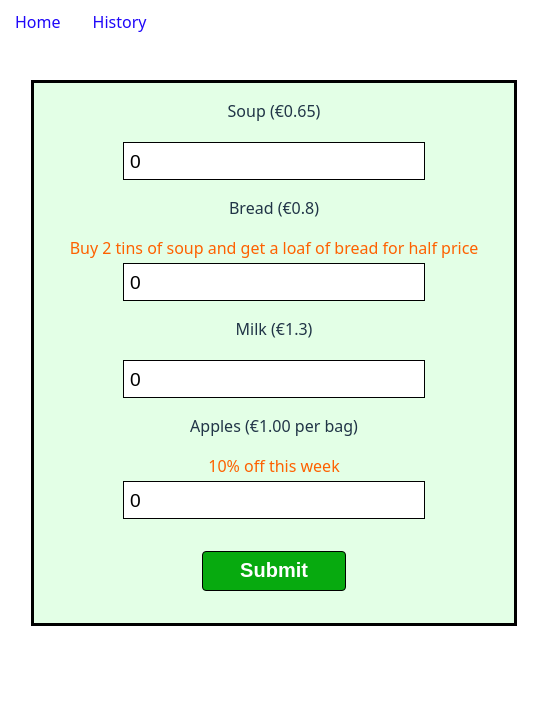
Test case: Basket form and GeneratedReceipt integration › shows validation errors for negative quantities and required fields
Replace the text in the number field with id "soup-quantity" with "-1" at (275, 161), box top-left (123, 142), bottom-right (426, 180)
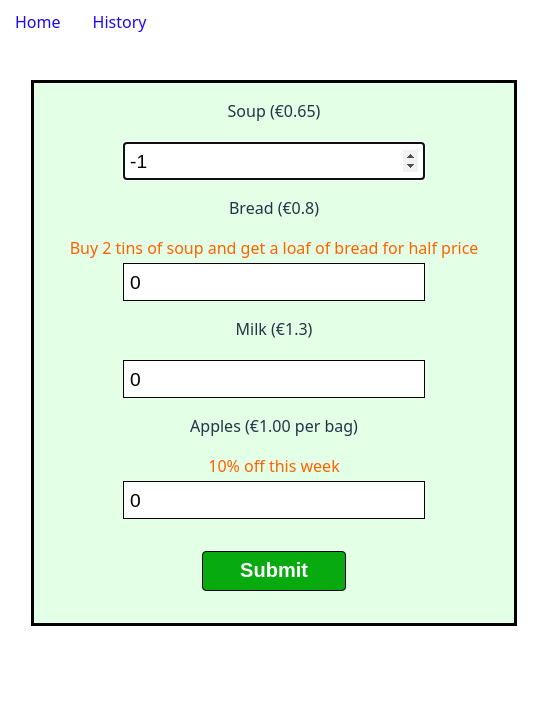
Replace the text in the number field with id "bread-quantity" with "-2" at (275, 282), box top-left (123, 263), bottom-right (426, 301)
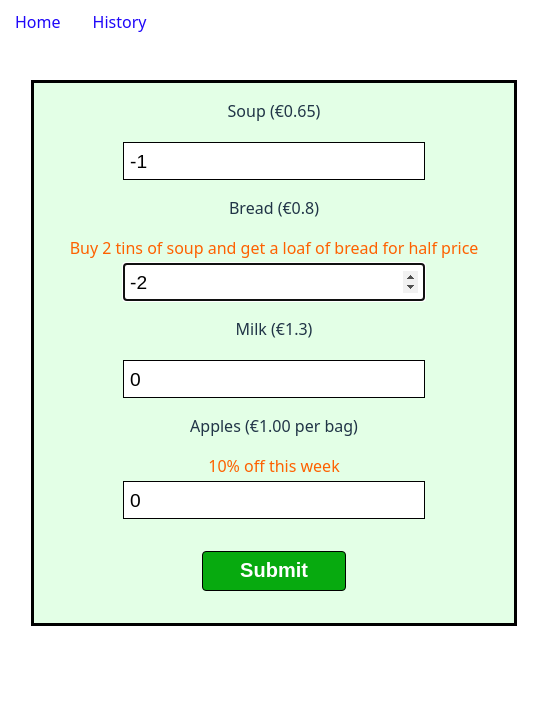
Replace the text in the number field with id "milk-quantity" with "-3" at (275, 379), box top-left (123, 360), bottom-right (426, 398)
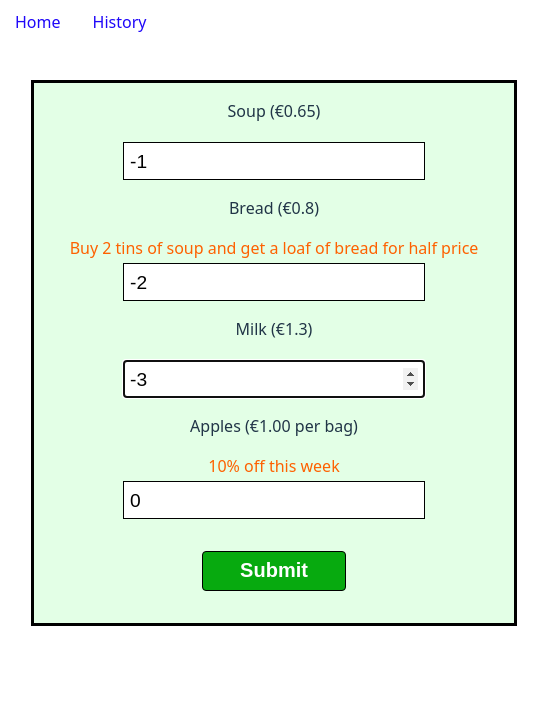
Replace the text in the number field with id "apples-quantity" with "-4" at (275, 500), box top-left (123, 481), bottom-right (426, 519)
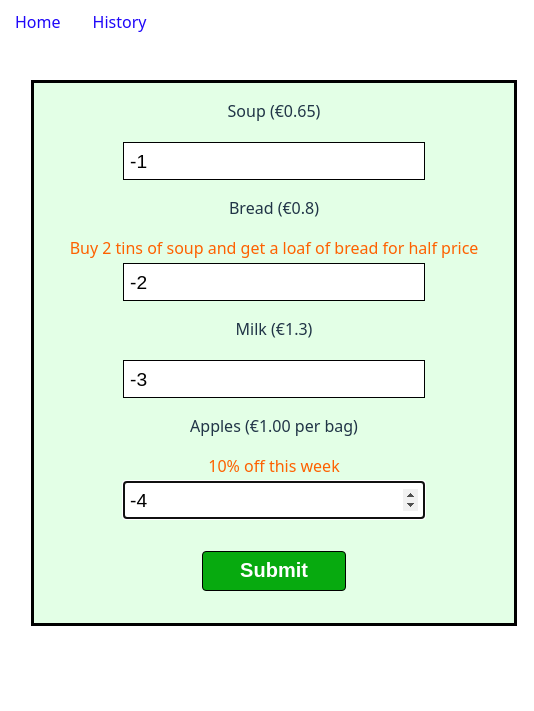
Click the button with id "button-submit-form" at (274, 571), box top-left (202, 551), bottom-right (346, 591)
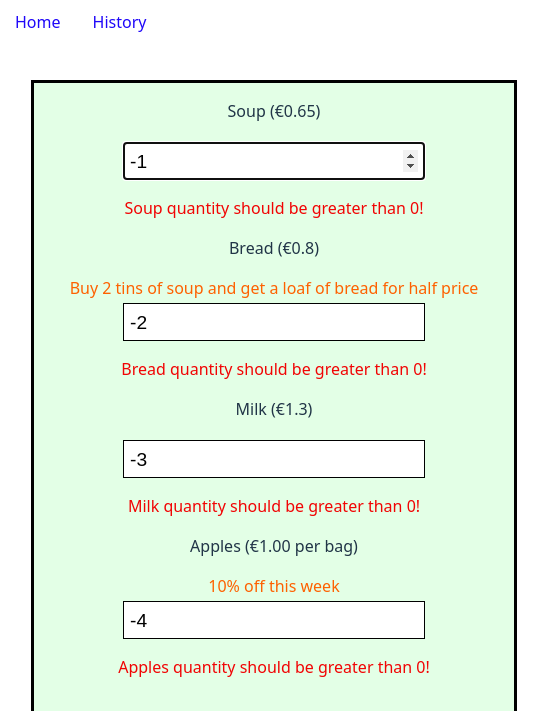
Result: the text "Soup quantity should be greater than 0!" is shown at top-left (124, 197), bottom-right (424, 219)
Result: the text "Bread quantity should be greater than 0!" is shown at top-left (121, 358), bottom-right (427, 380)
Result: the text "Milk quantity should be greater than 0!" is shown at top-left (128, 495), bottom-right (420, 517)
